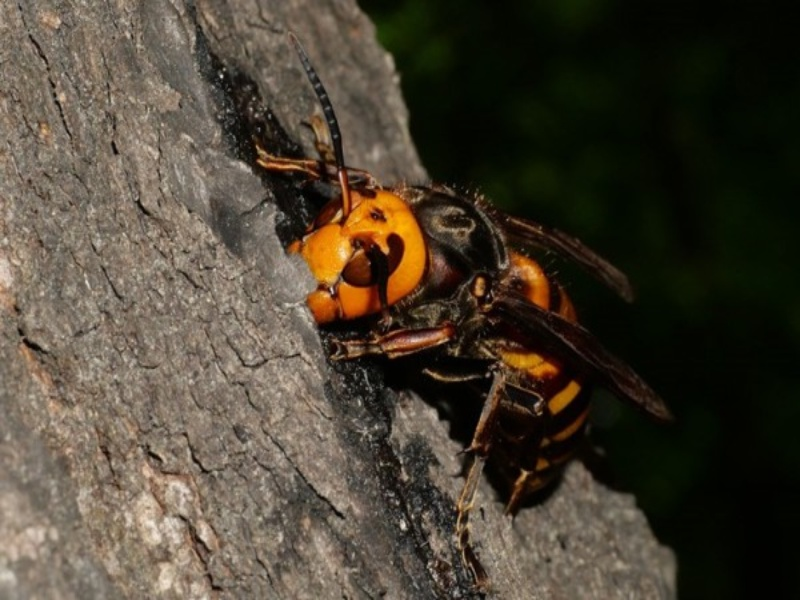asian_giant_hornet: (248, 32, 628, 543)
